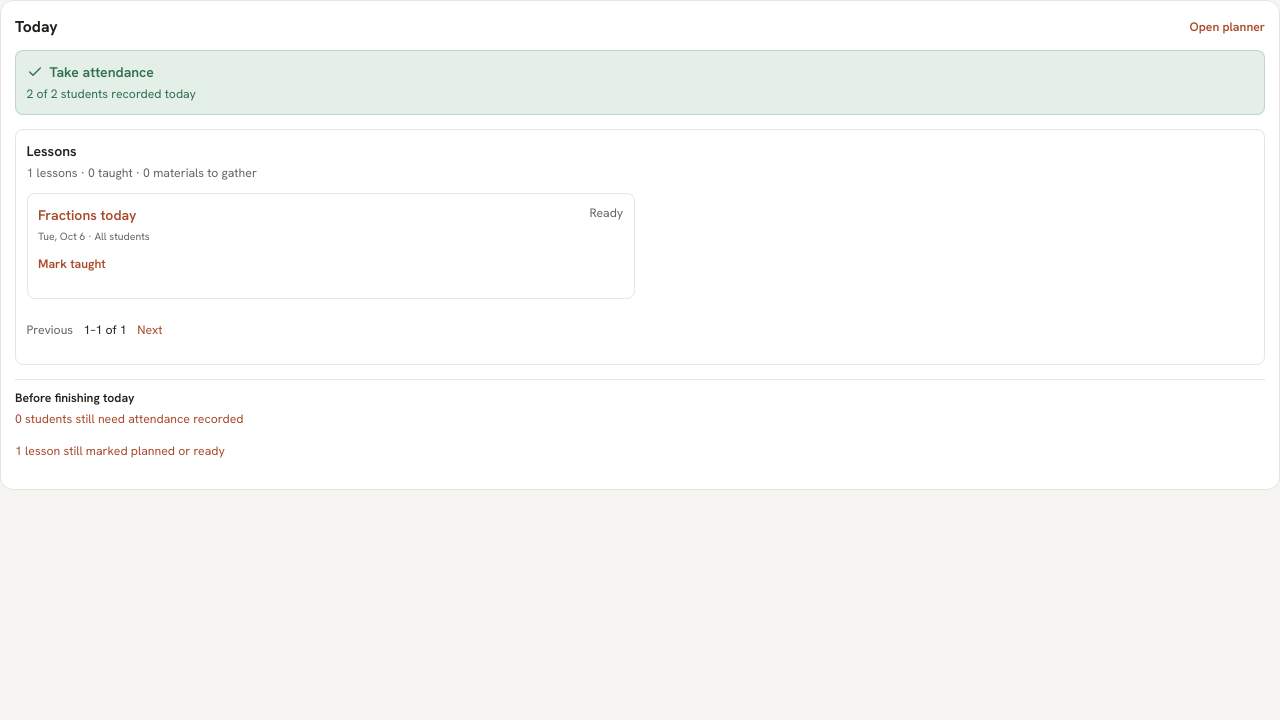
Test case: teacher schedule completion › celebrates after marking the last lesson taught and refreshing
Click the button "Mark taught" at (72, 265), box [38,243,106,287]
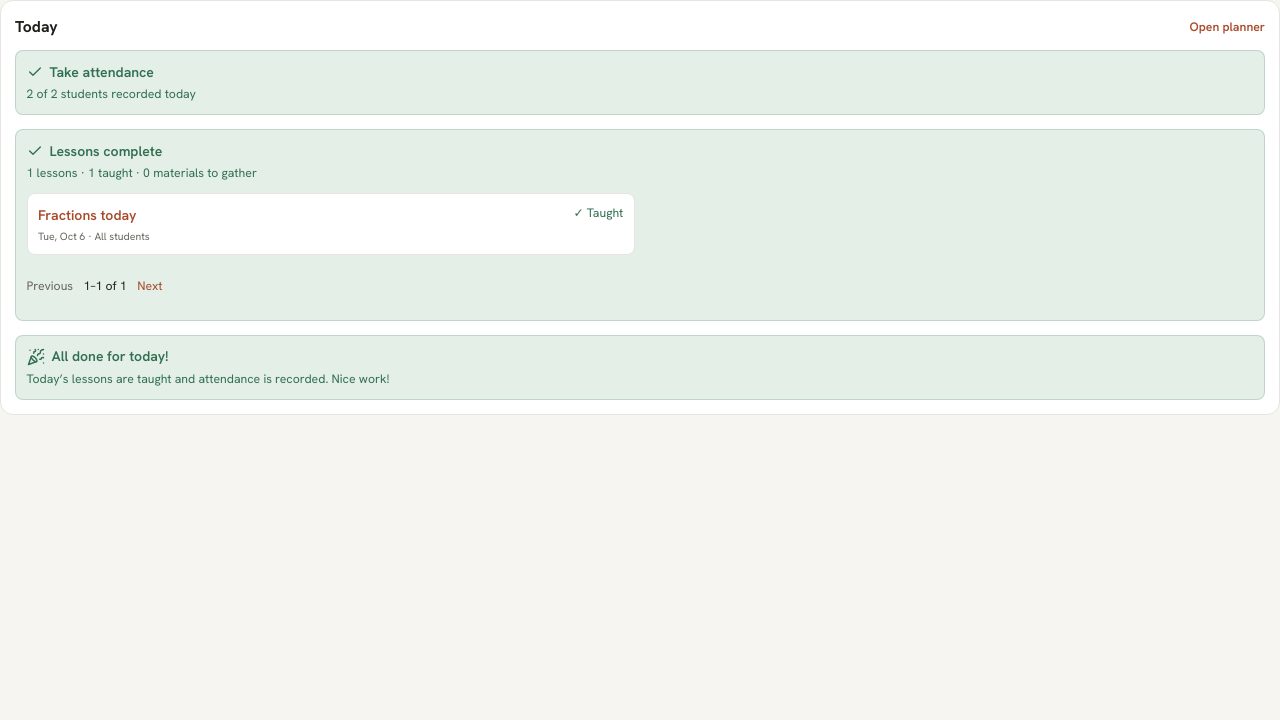
Expected: the heading "All done for today!" is shown, [26,347,169,366]
